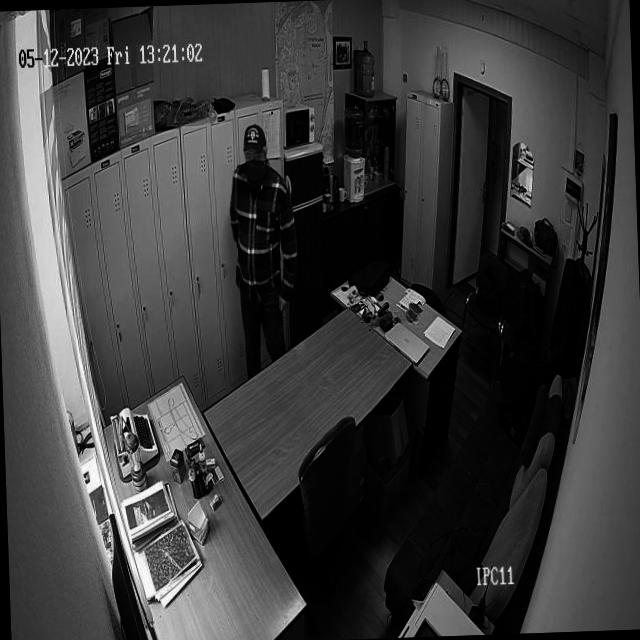person: (225, 122, 302, 342)
